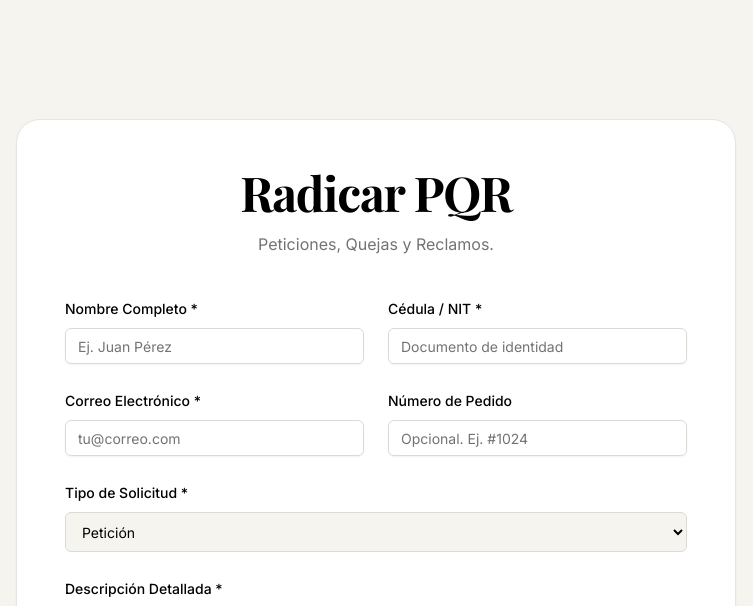
Scenario: Support and Legal Pages › PqrPage › submits successfully and shows success message
This screenshot has width=753, height=606.
Type "Test User" into the field labelled "Nombre Completo *" at (214, 346), box [65,328,364,364]
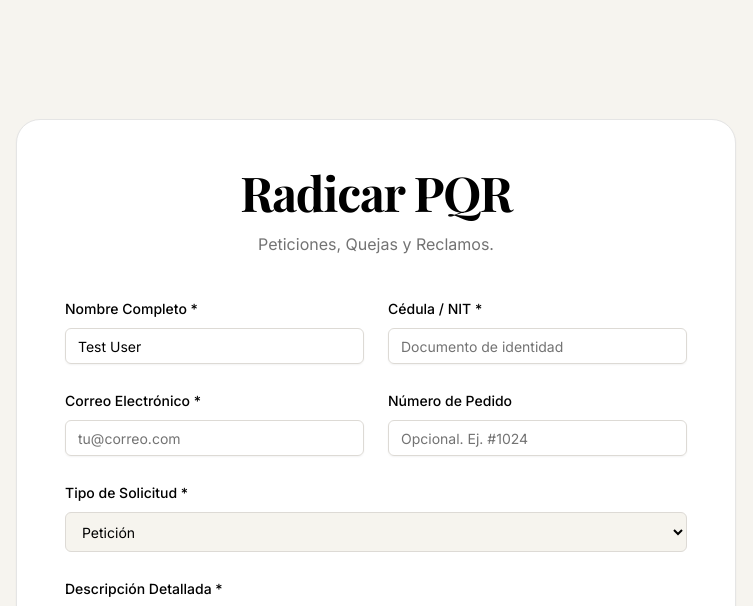
Type "12345" into the field labelled "Cédula / NIT *" at (538, 346), box [388,328,687,364]
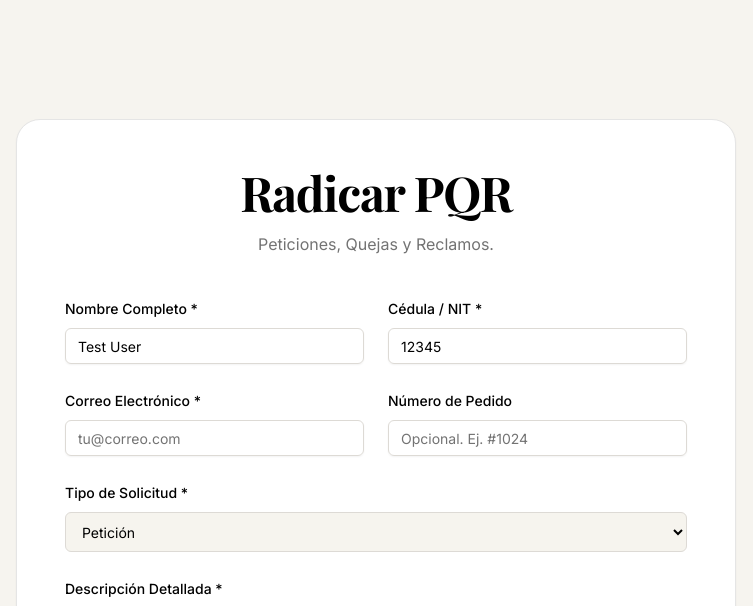
Type "test@user.com" into the field labelled "Correo Electrónico *" at (214, 438), box [65,420,364,456]
(page scrolled)
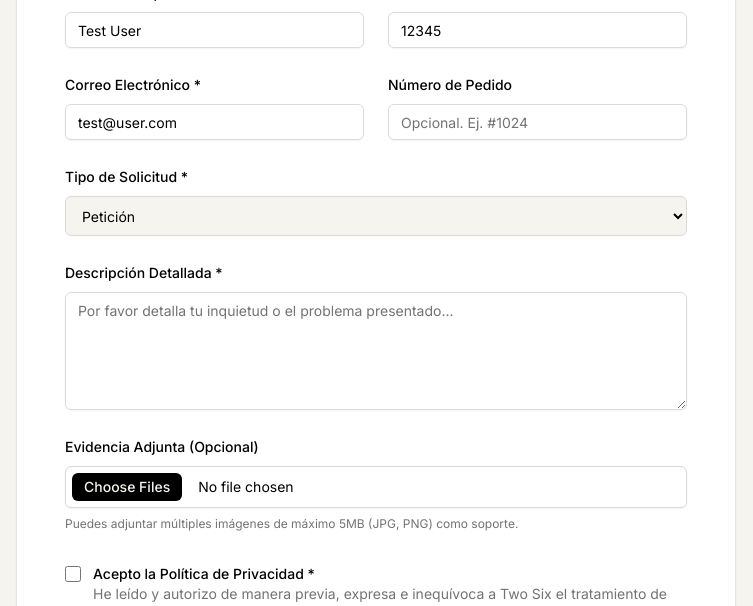
Type "Mi reclamo" into the text box labelled "Descripción Detallada *" at (376, 351), box [65,292,687,410]
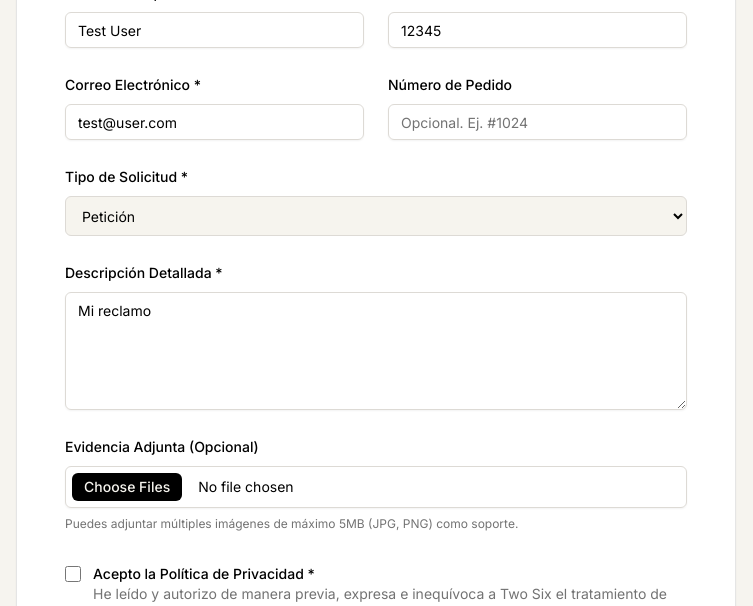
Click the checkbox labelled "Acepto la Política de Privacidad *" at (73, 574), box [65,566,81,582]
(page scrolled)
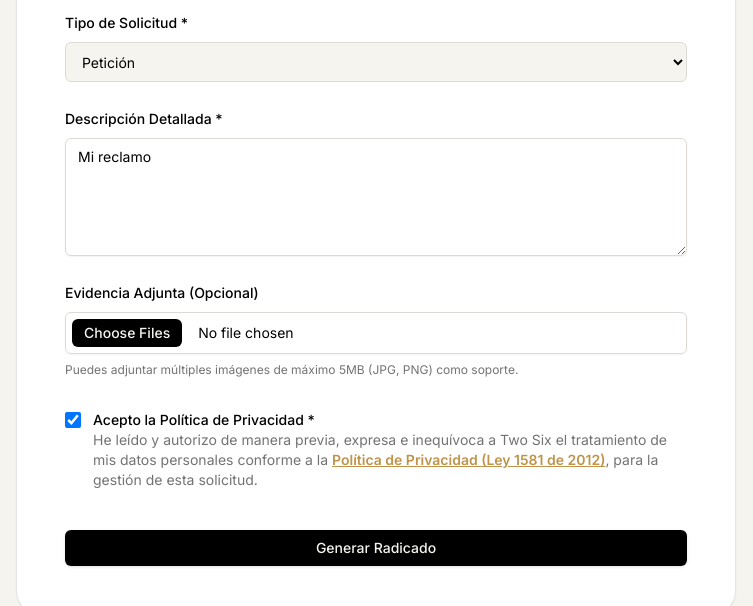
Click the button "Generar Radicado" at (376, 548), box [65,530,687,566]
(page scrolled)
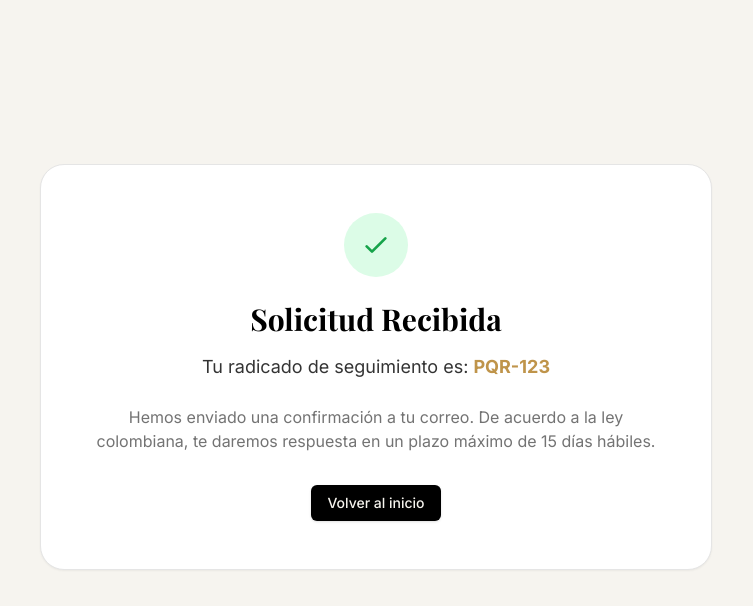
Expected: the heading "Solicitud Recibida" is shown, [250,299,502,339]
Expected: the text "PQR-123" is shown, [473,356,550,377]
